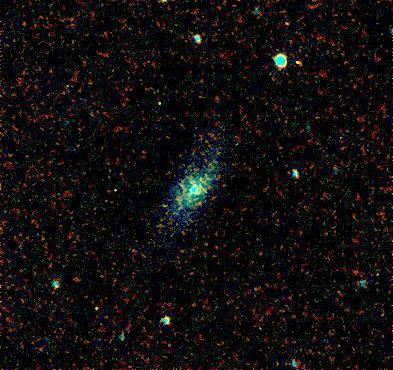star: (281, 47, 311, 77)
